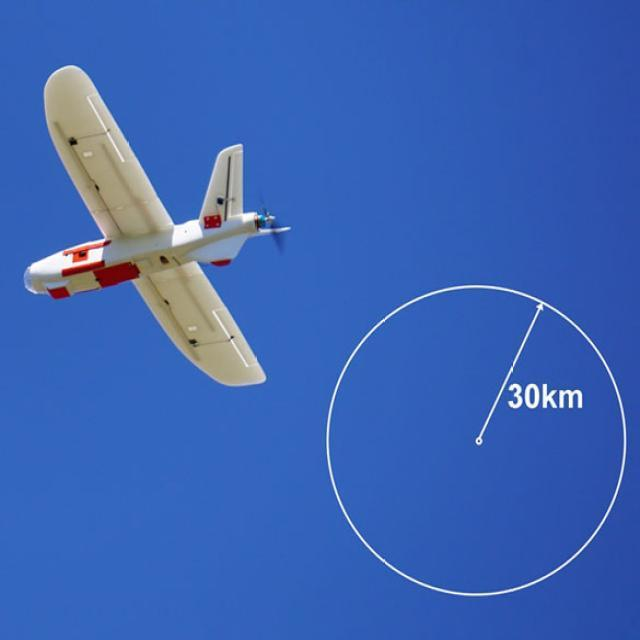iha: (19, 65, 287, 412)
